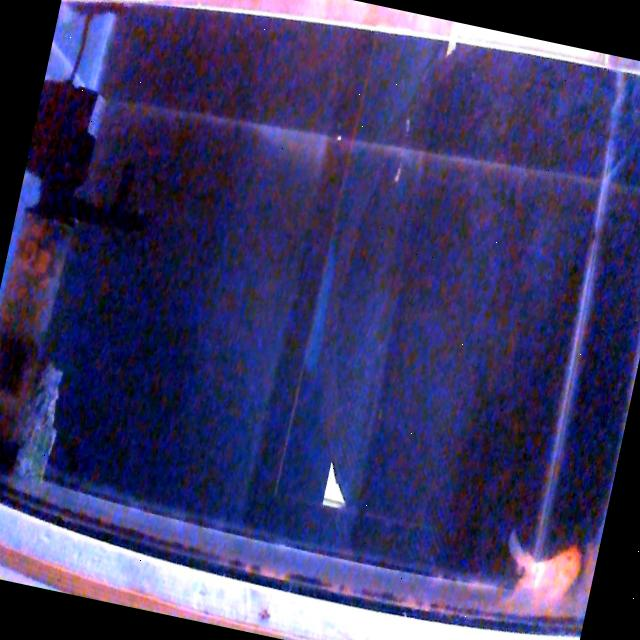fish: (493, 526, 587, 624), (570, 536, 600, 604)
